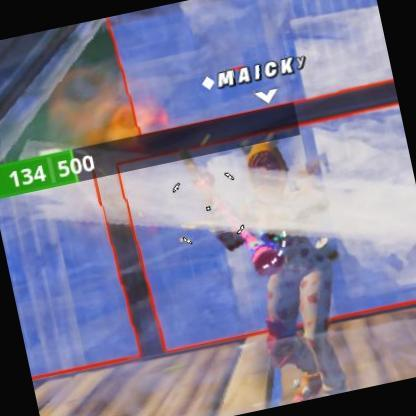person: (213, 130, 360, 381)
